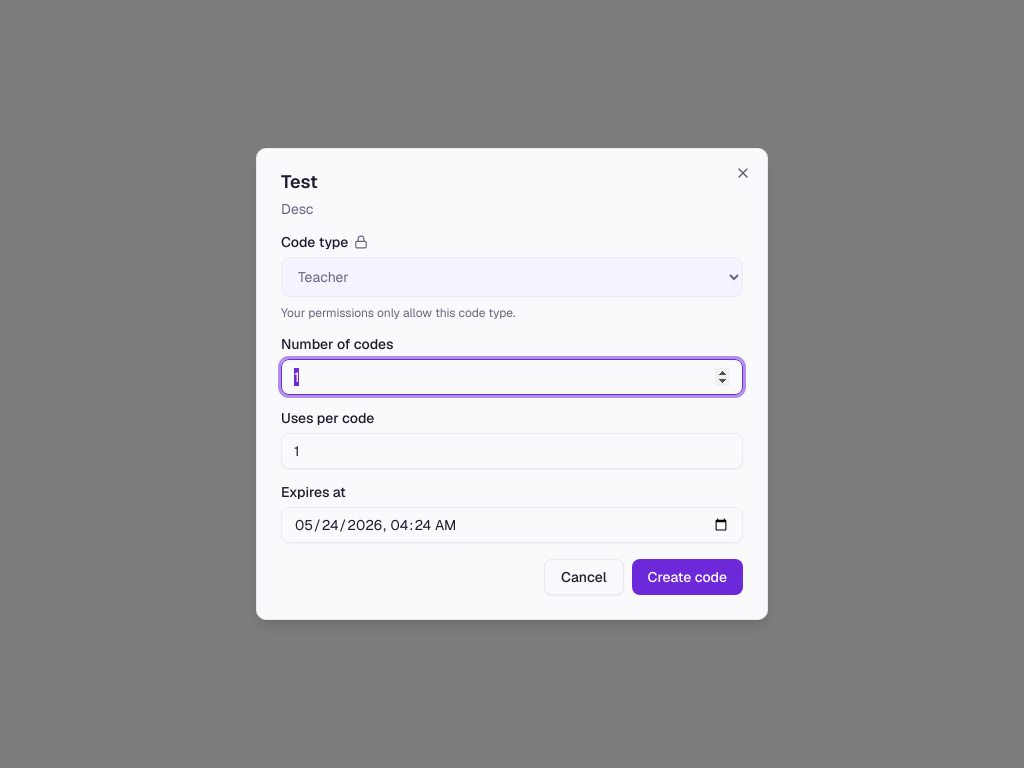
Test case: CreateRegistrationCodeDialog › shows count validation error when count < 1
The width and height of the screenshot is (1024, 768).
Replace the text in the number field labelled "Number of codes" with "0" at (512,377), box [281,359,743,395]
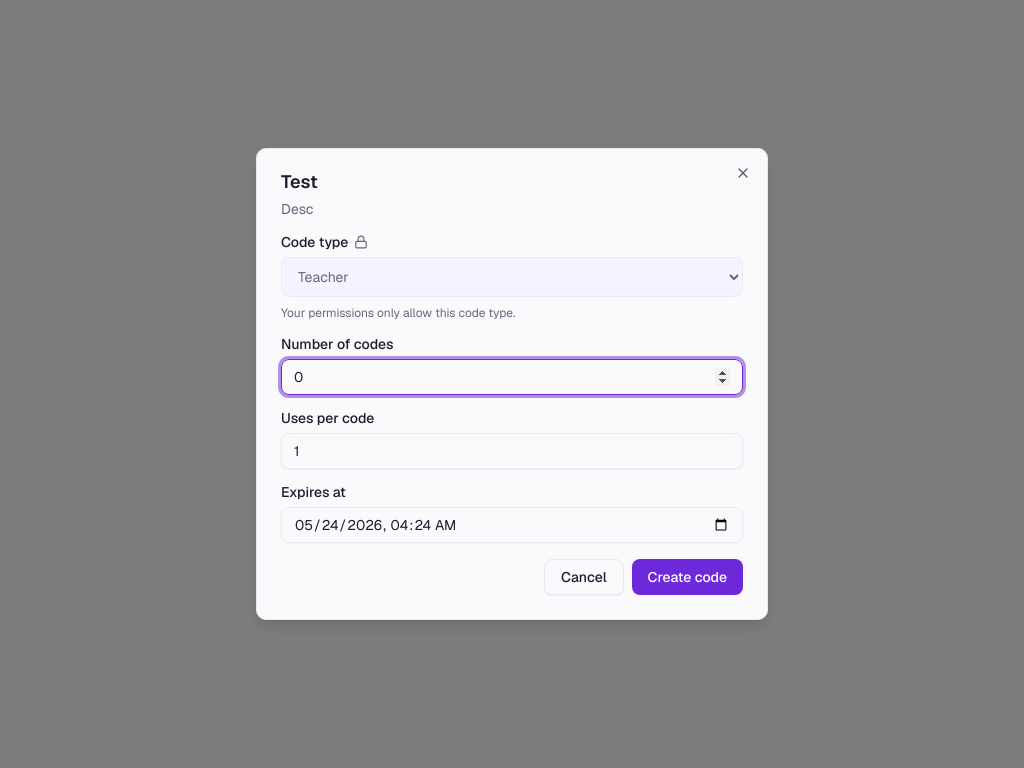
Click the button "Create code" at (687,577), box [632,559,743,595]
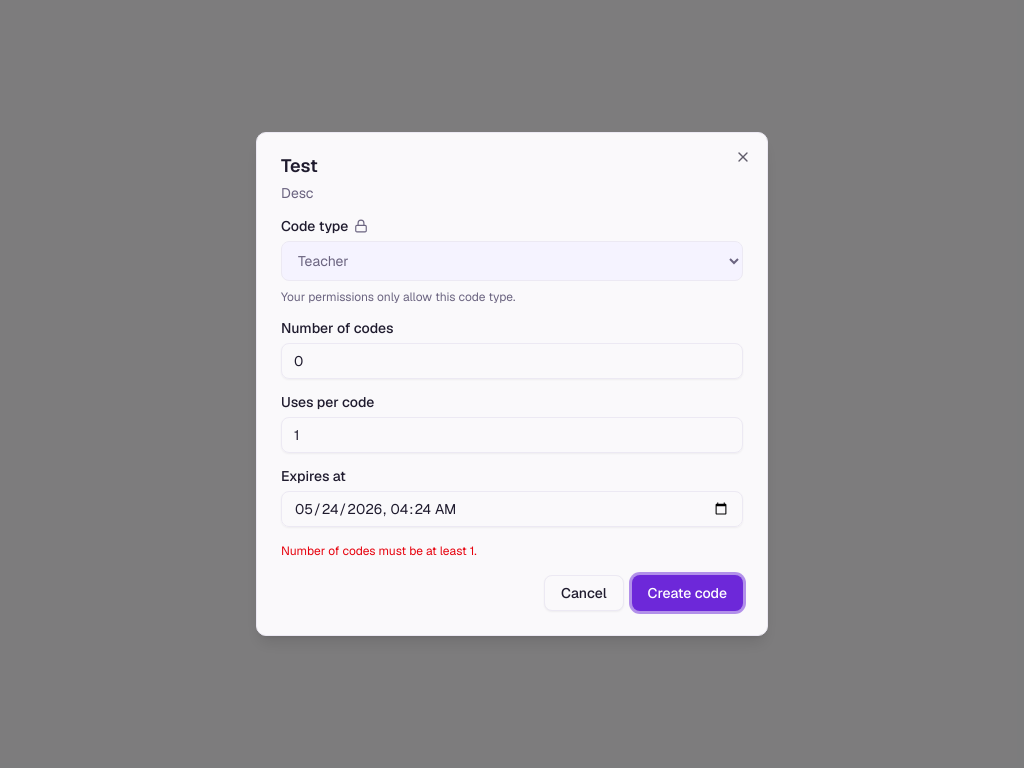
Expected: the text "Number of codes must be at least 1." is shown, [281,543,477,559]
